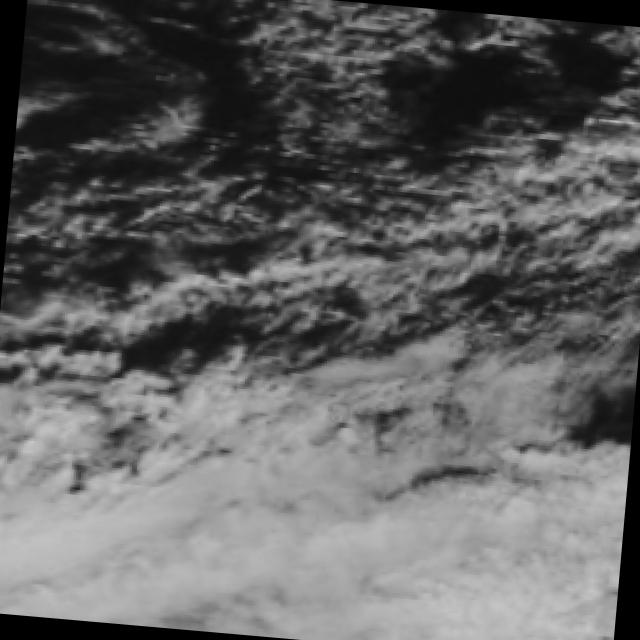CB: (344, 474, 625, 640), (0, 469, 210, 630), (202, 469, 368, 640)
